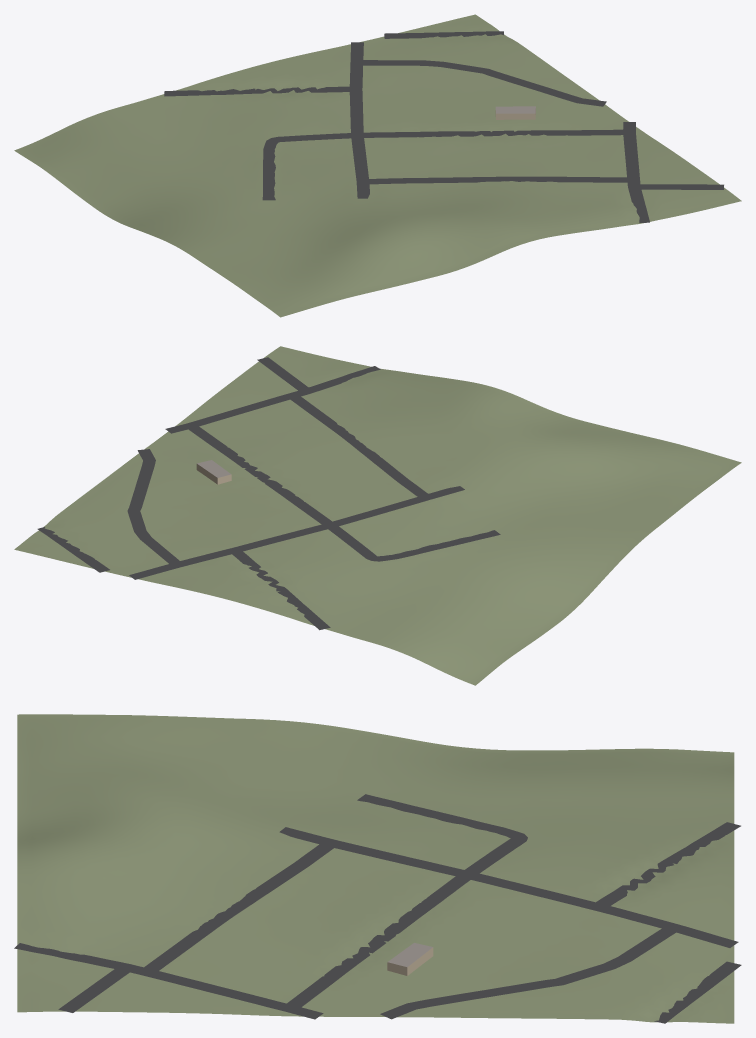
3 renders of one model, top to bottom at view 1: azimuth 30°, elevation 25°; view 2: azimuth 150°, elevation 25°; view 3: azimuth 270°, elevation 25°, orthographic. The views are drawn at different scales.
Parts seen in each view (by area): view 1: ground, road; view 2: ground, road; view 3: ground, road, roofs.
Part boxes in pixels (x1,y1,x2,y2): ground: (14,14,741,317); road: (164,31,723,222); ground: (14,346,741,685); road: (37,357,500,630); ground: (17,714,734,1023); road: (14,794,741,1023); roofs: (387,943,432,967).
Size of the model in its own units: 253 by 23.19 by 254.
